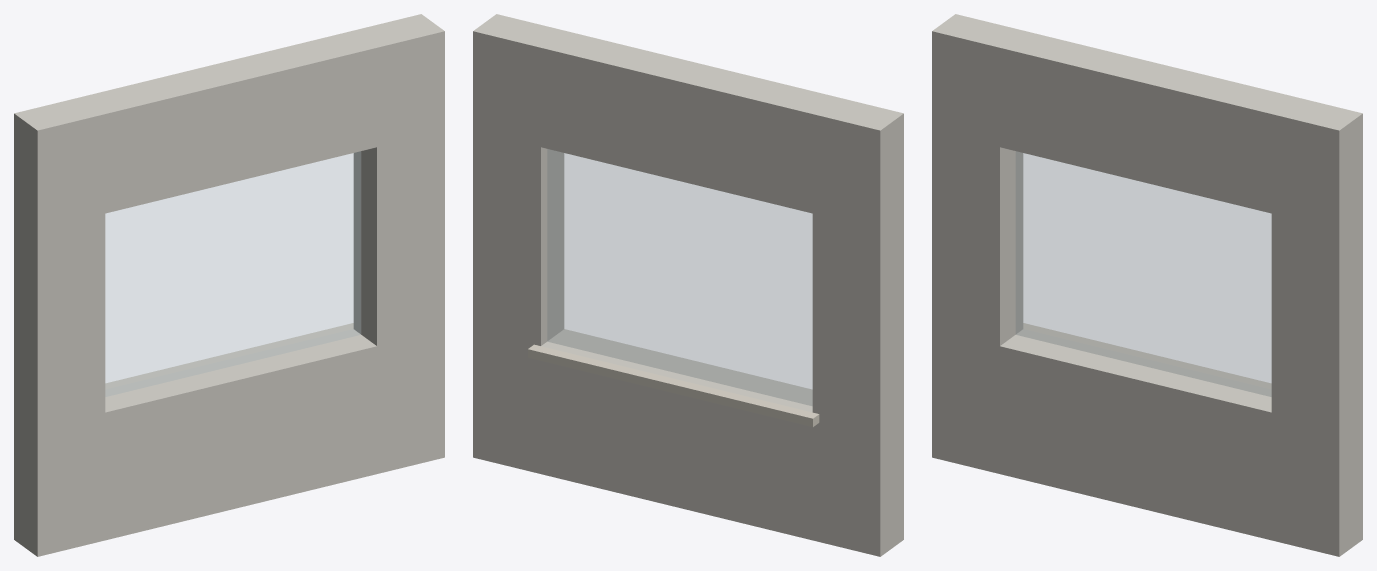
File: fac_render_win_c.glb
The picture shows the model from 3 angles, left to right: view 1: azimuth 30°, elevation 25°; view 2: azimuth 150°, elevation 25°; view 3: azimuth 330°, elevation 25°; orthographic projection.
Parts seen in each view (by area): view 1: fac_render_win_c; view 2: fac_render_win_c; view 3: fac_render_win_c.
Part boxes in pixels (<box>): fac_render_win_c: <box>14,14,444,556</box>; fac_render_win_c: <box>473,14,903,556</box>; fac_render_win_c: <box>932,14,1362,556</box>.
Size of what is drawn, in the model's own units: 3 by 3 by 0.38.
